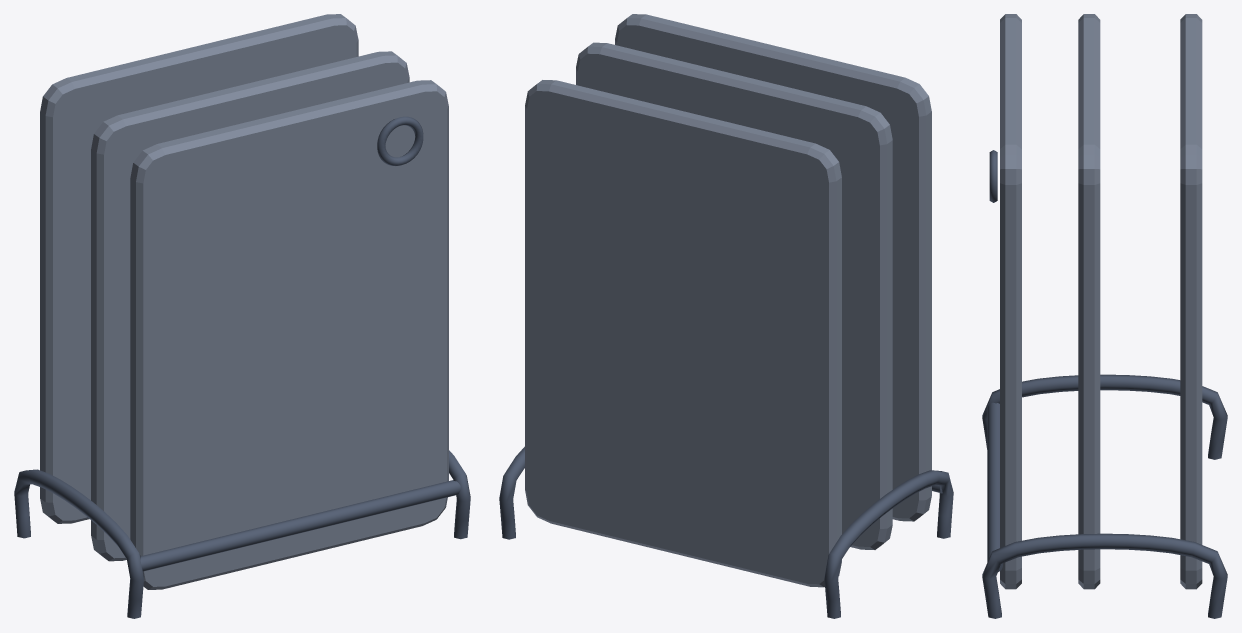
The model's file is cutting-board-rack-lite.glb.
3 renders of one model, left to right at view 1: azimuth 30°, elevation 25°; view 2: azimuth 150°, elevation 25°; view 3: azimuth 270°, elevation 25°, orthographic.
Parts seen in each view (by area): view 1: body, dark; view 2: body, dark; view 3: body, dark.
Boxes of the visible parts, left/top/right/bottom form: body: left=40, top=14, right=448, bottom=589; dark: left=14, top=116, right=470, bottom=618; body: left=525, top=14, right=931, bottom=587; dark: left=499, top=446, right=953, bottom=618; body: left=1000, top=14, right=1202, bottom=589; dark: left=982, top=150, right=1227, bottom=618.
Size of the model in its own units: 0.25 by 0.32 by 0.1564.
